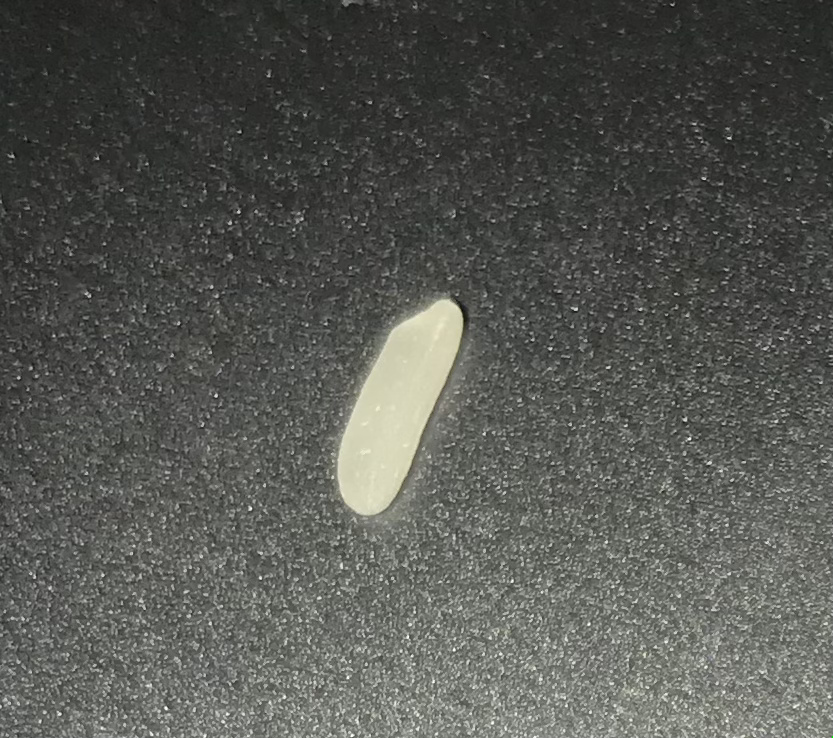Gao Tam Thom: (338, 286, 473, 512)
